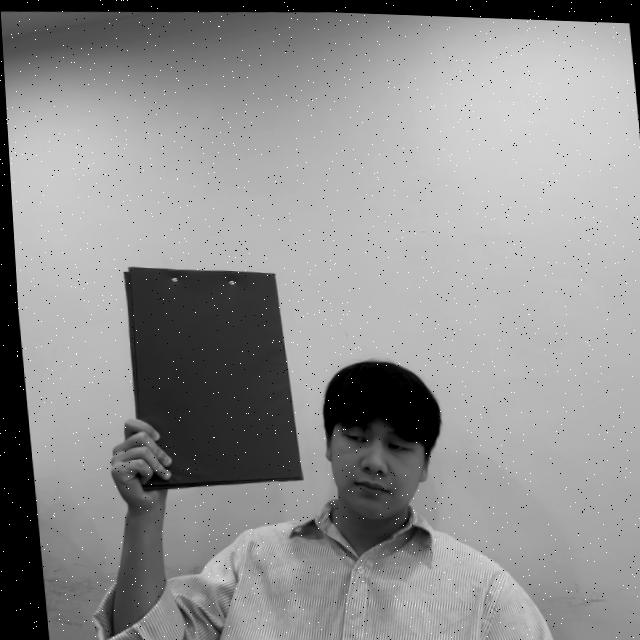face: (327, 390, 426, 516)
